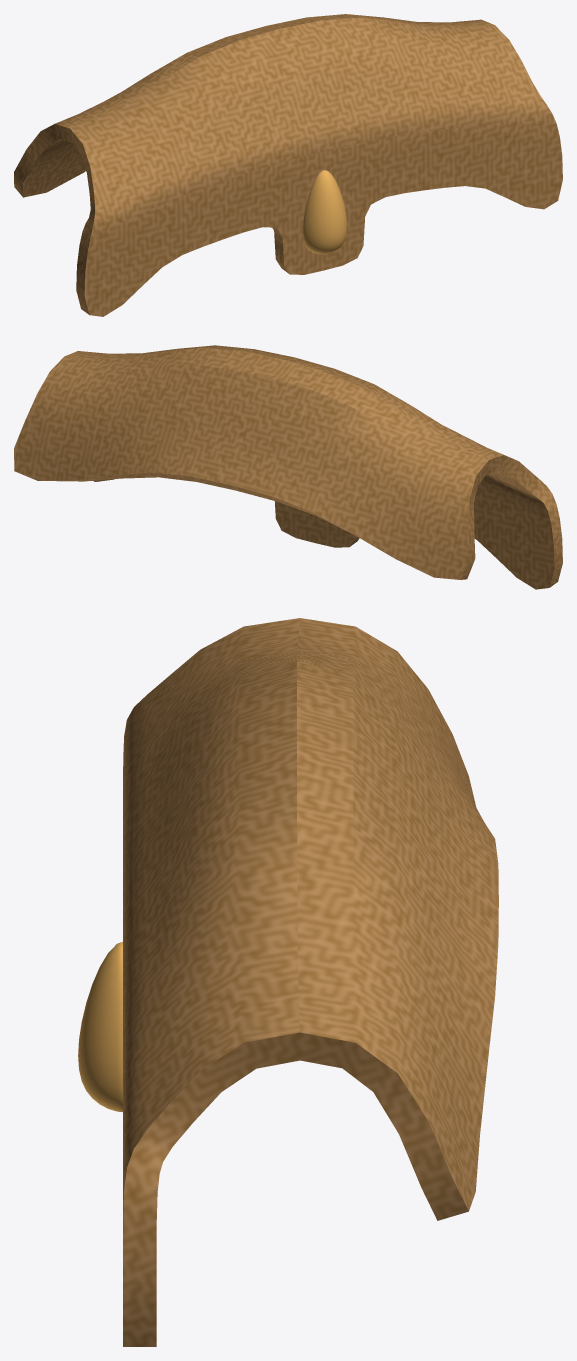
File: chevron4.dae
3 views of the same model, one above another, from view 1: azimuth 30°, elevation 25°; view 2: azimuth 150°, elevation 25°; view 3: azimuth 270°, elevation 25° (orthographic). The views are drawn at different scales.
Parts seen in each view (by area): view 1: Chevron, Stone; view 2: Chevron; view 3: Chevron, Stone.
Boxes of the visible parts, <box> form: Chevron: <box>14,14,562,316</box>; Stone: <box>303,170,346,254</box>; Chevron: <box>14,345,562,589</box>; Chevron: <box>123,618,498,1346</box>; Stone: <box>78,942,122,1112</box>.
Size of the model in its own units: 1.64 by 0.6263 by 0.6893.
2 materials, 1 textured.
